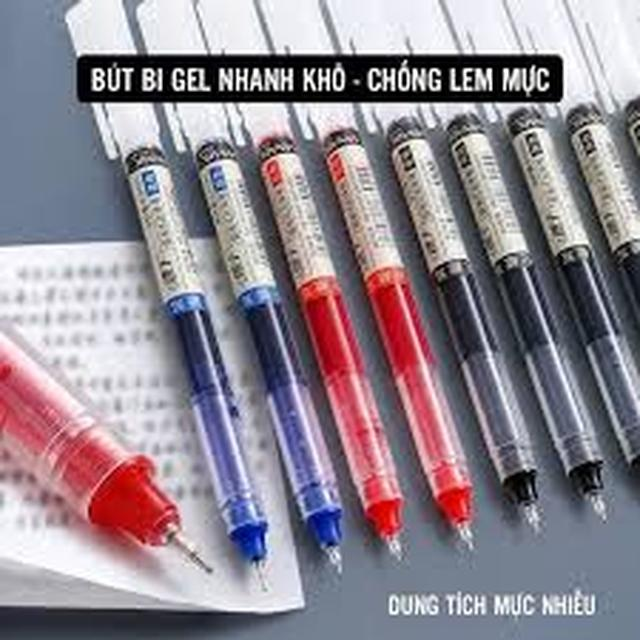key: (57, 2, 277, 584), (138, 2, 354, 581)
pen: (265, 0, 489, 556), (196, 1, 409, 554), (403, 31, 580, 504), (513, 0, 640, 550)
